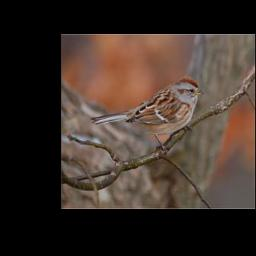Sparrow: (90, 76, 206, 155)
